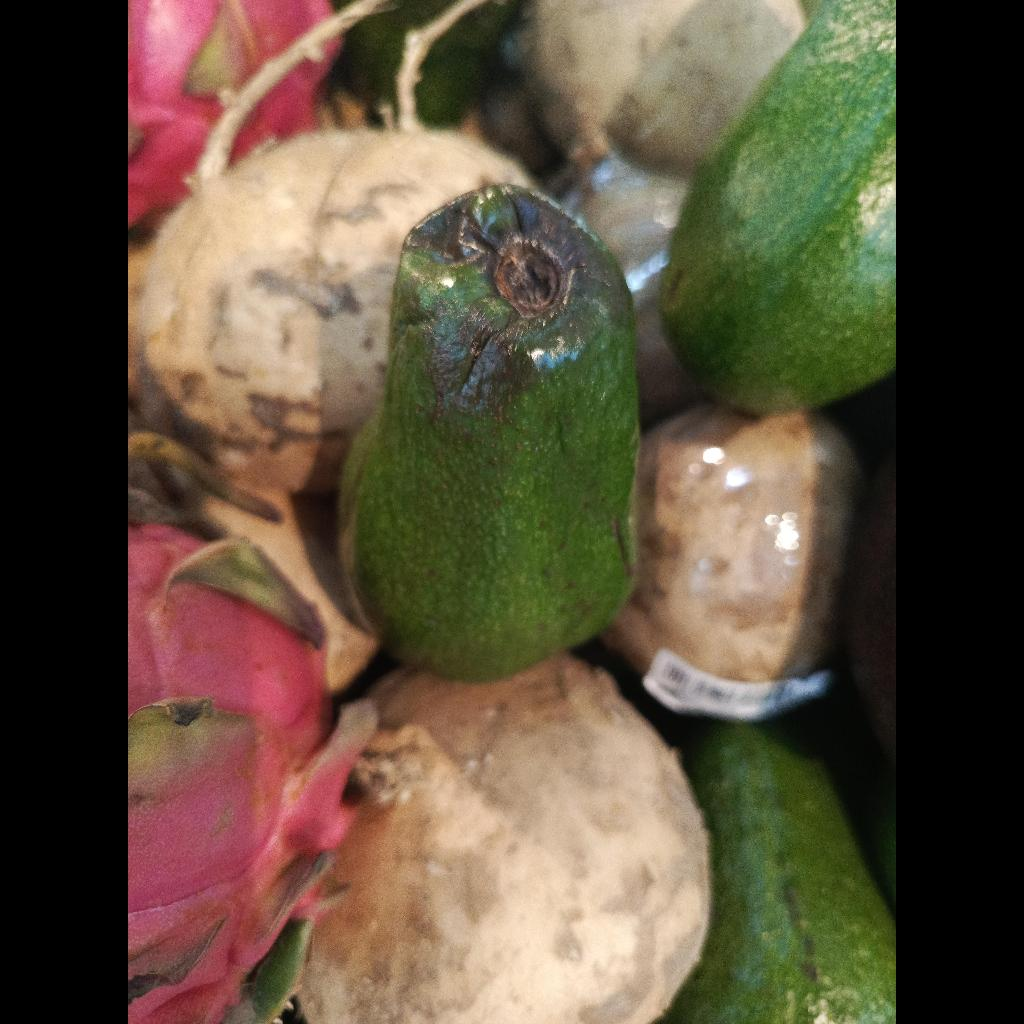stem end rot: (339, 185, 639, 682)
